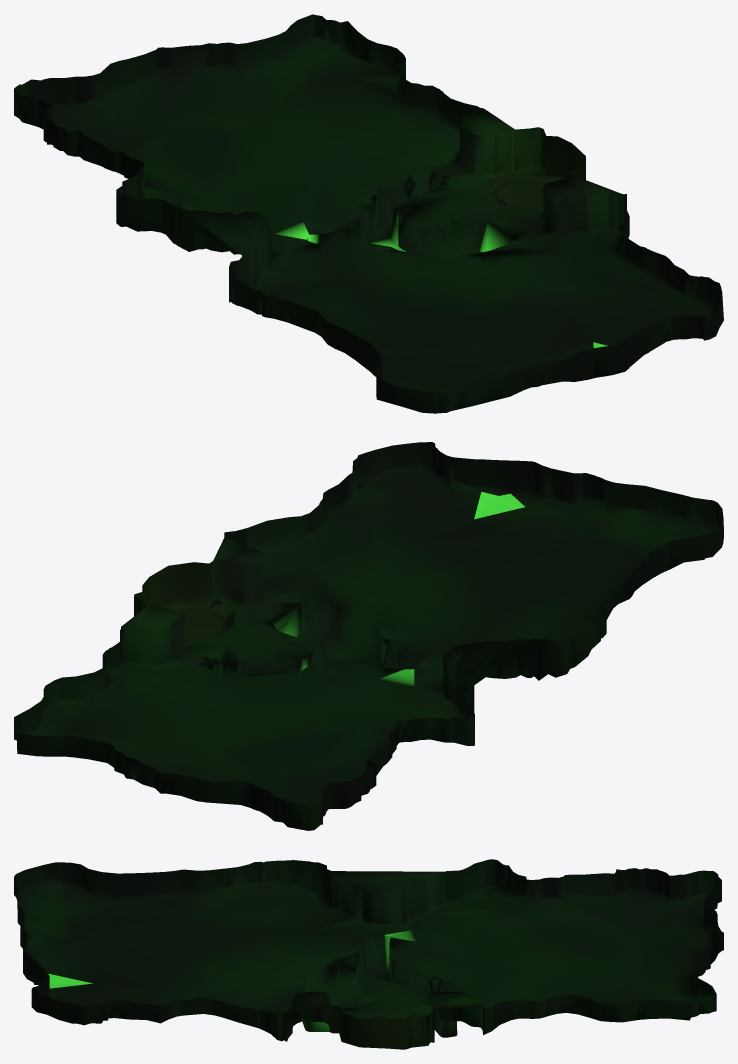
File: level2modifications_test2_down1.fbx
3 renders of one model, top to bottom at view 1: azimuth 30°, elevation 25°; view 2: azimuth 150°, elevation 25°; view 3: azimuth 270°, elevation 25°, orthographic. The views are drawn at different scales.
Visible parts, largest first — view 1: v9_Collision; view 2: v9_Collision; view 3: v9_Collision.
Boxes of the visible parts, x1,y1,x2,y2 form: v9_Collision: [14, 14, 723, 413]; v9_Collision: [14, 442, 723, 830]; v9_Collision: [14, 859, 723, 1049].
Bounding box in the file's own units: 10061 × 1649 × 18832.
